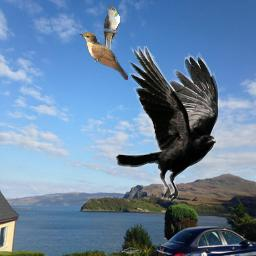Crow: (115, 46, 221, 205)
Cuckoo: (79, 32, 128, 80), (103, 6, 120, 53)
